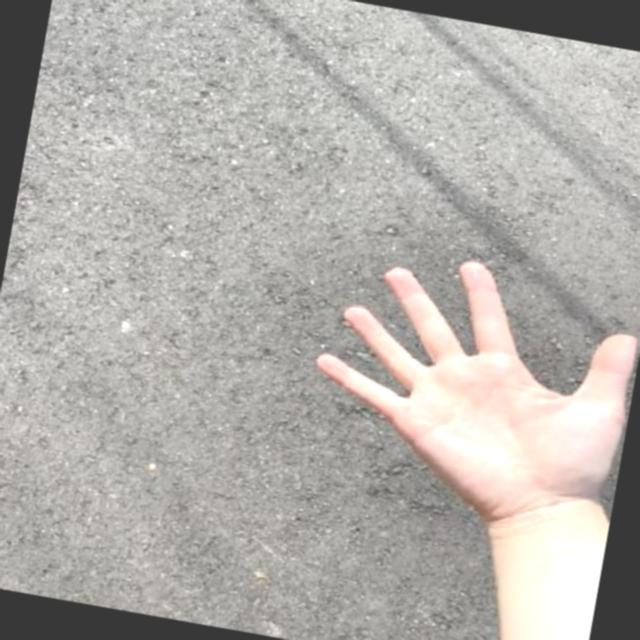hand: (282, 217, 640, 560)
